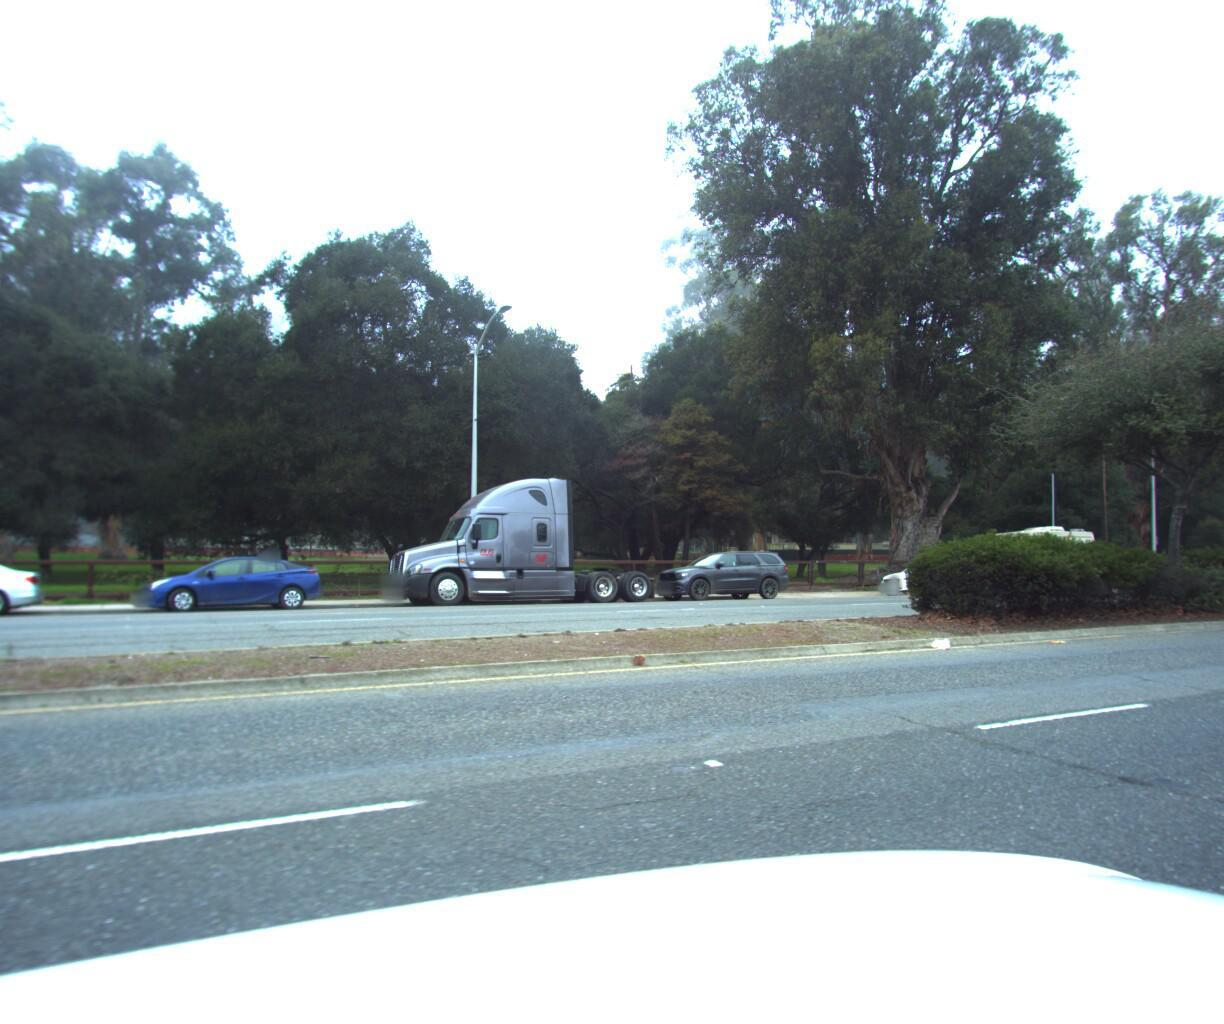car: (132, 552, 327, 622), (646, 544, 792, 604), (864, 553, 982, 594)
other_vehicle: (950, 518, 1100, 593)
truck: (373, 462, 661, 611)
